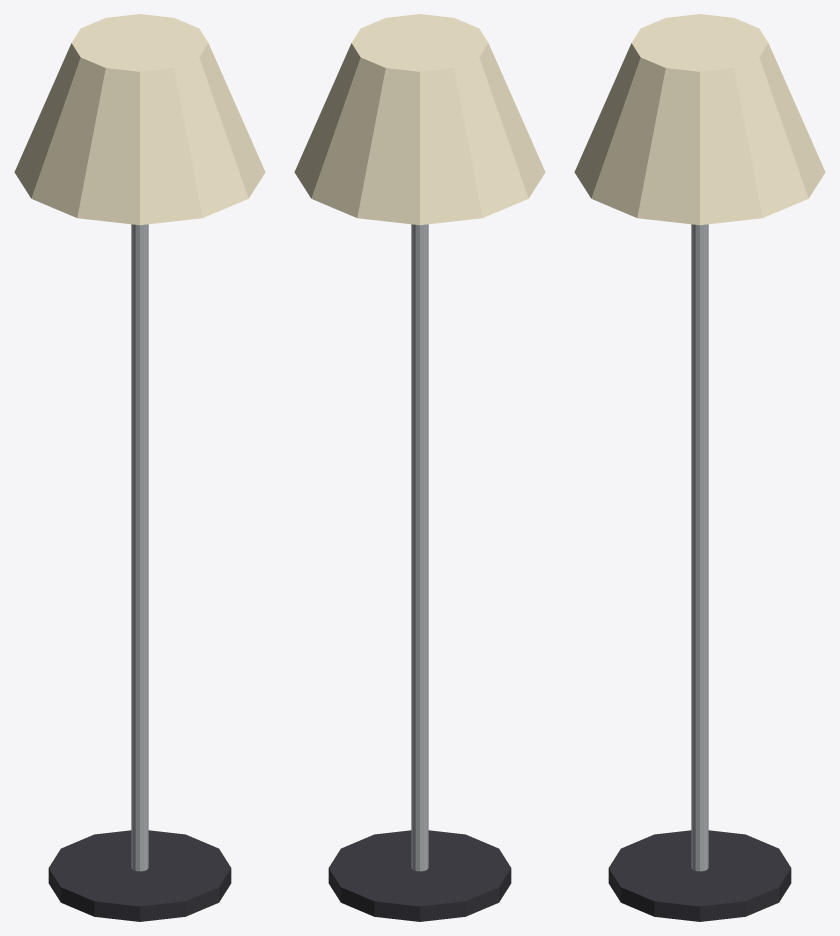
File: sm_product_floor_lamp.glb
3 renders of one model, left to right at view 1: azimuth 30°, elevation 25°; view 2: azimuth 150°, elevation 25°; view 3: azimuth 270°, elevation 25°, orthographic.
Parts seen in each view (by area): view 1: floor_lamp_2, floor_lamp_0, floor_lamp_1; view 2: floor_lamp_2, floor_lamp_0, floor_lamp_1; view 3: floor_lamp_2, floor_lamp_0, floor_lamp_1.
Part boxes in pixels (bbox=[...]): floor_lamp_2: bbox=[14, 14, 265, 225]; floor_lamp_0: bbox=[48, 830, 231, 921]; floor_lamp_1: bbox=[131, 224, 148, 871]; floor_lamp_2: bbox=[294, 14, 545, 225]; floor_lamp_0: bbox=[328, 830, 511, 921]; floor_lamp_1: bbox=[411, 224, 428, 871]; floor_lamp_2: bbox=[574, 14, 825, 225]; floor_lamp_0: bbox=[608, 830, 791, 921]; floor_lamp_1: bbox=[691, 224, 708, 871].
Size of what is drawn, in the model's own units: 0.44 by 1.62 by 0.44.
